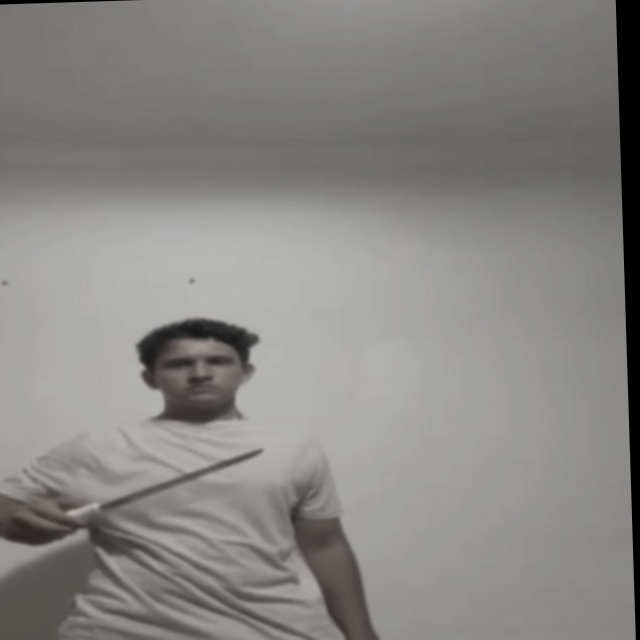Sharp-Object: (96, 445, 268, 509)
